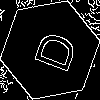D: (25, 25, 78, 75)
